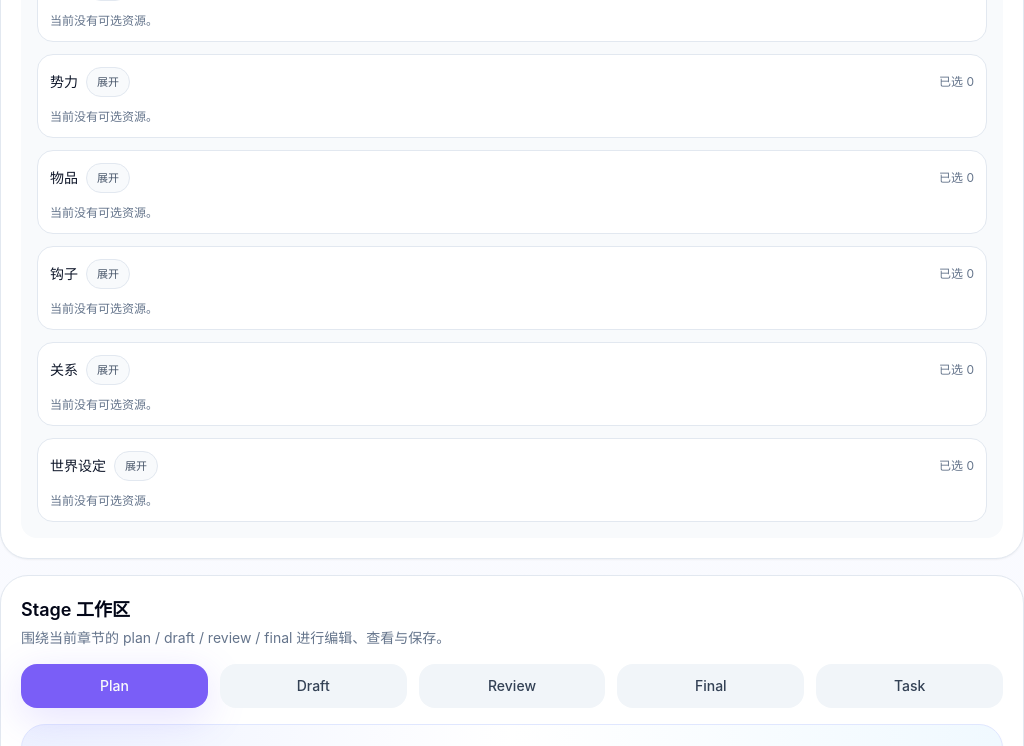
ChapterWorkbenchPage › shows localized relation entity type options in chapter resource editor
The width and height of the screenshot is (1024, 746).
(page scrolled)
Step 1. Click the button "展开" next to "关系" → (108, 370), box left=86, top=355, right=130, bottom=385
(page scrolled)
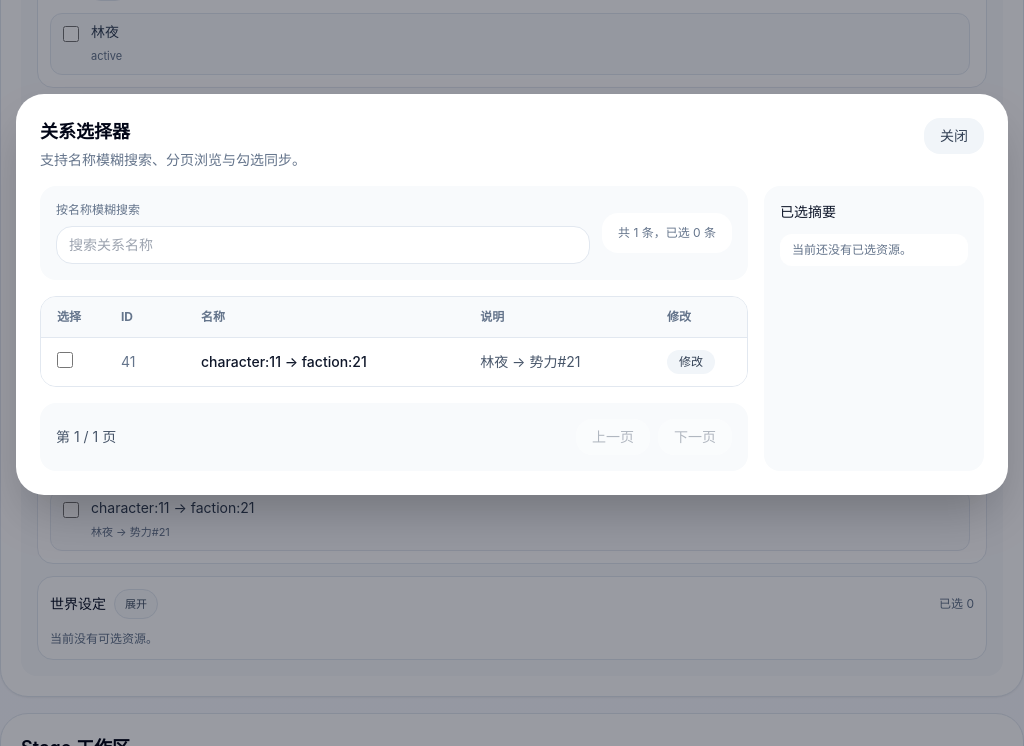
Step 2. Click the button with aria-label "修改character:11" → (691, 362), box left=667, top=350, right=715, bottom=374
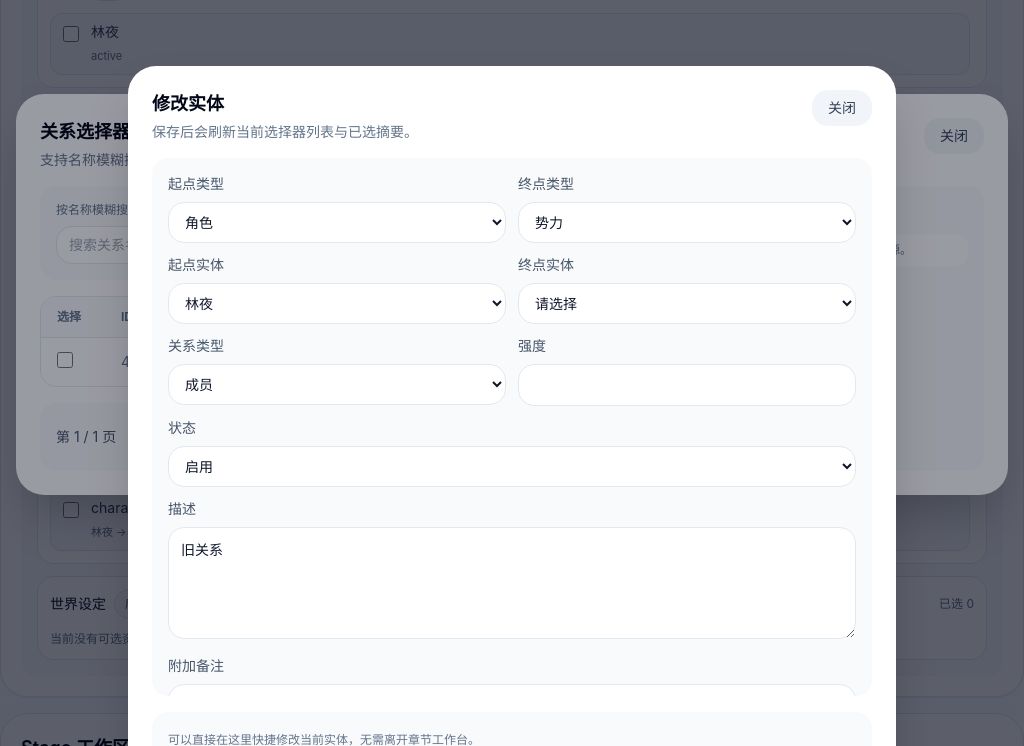
Step 3. Select "物品" in the dropdown labelled "起点类型" → (337, 222), box left=168, top=202, right=506, bottom=243
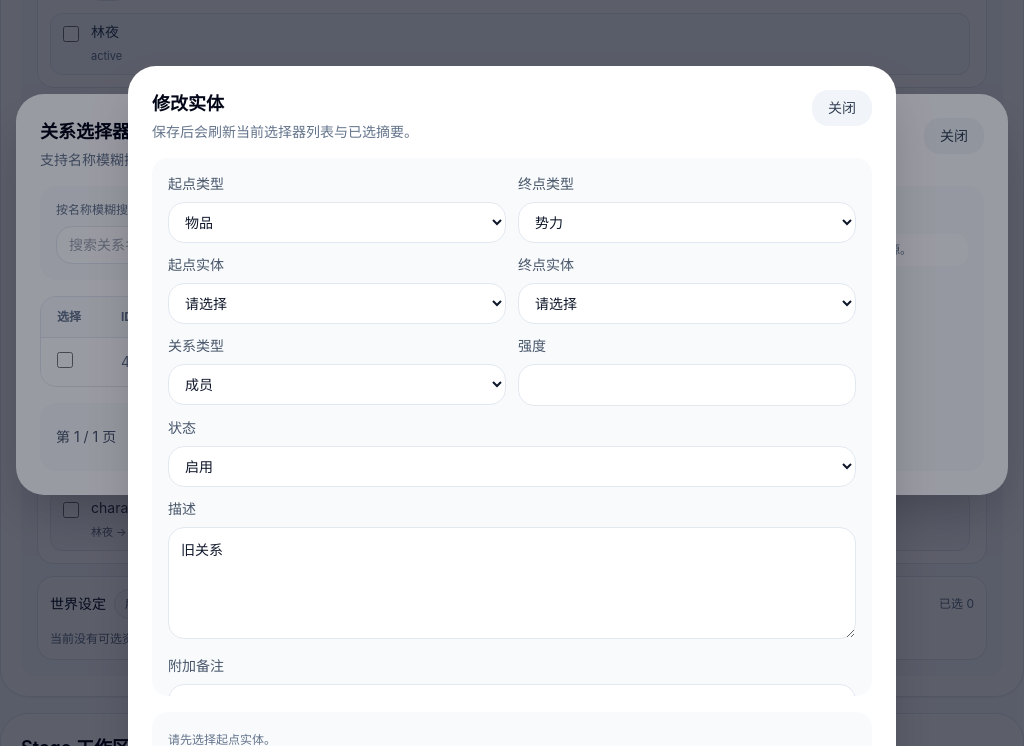
Expected: the dropdown labelled "起点实体" shows "请选择", left=168, top=283, right=506, bottom=324
